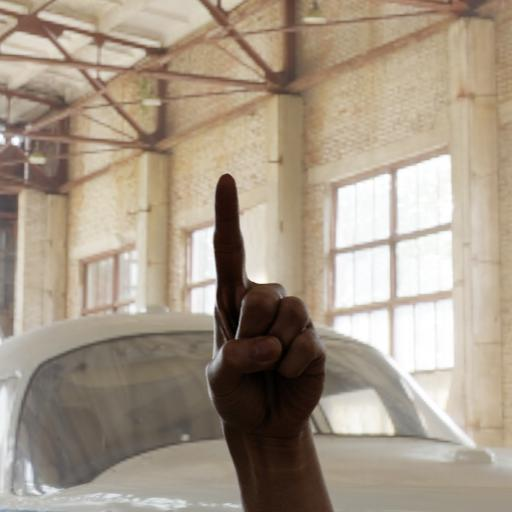Z: (200, 170, 332, 459)
